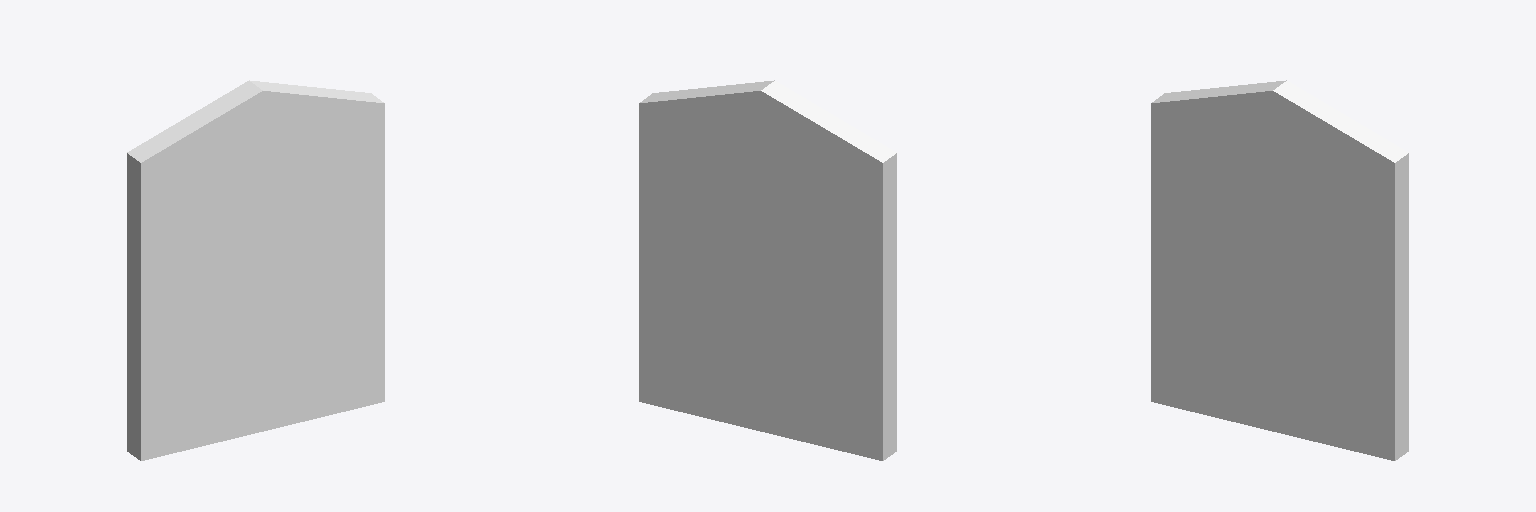
The model's file is ColouredWindowTall.obj.
The picture shows the model from 3 angles: view 1: azimuth 30°, elevation 25°; view 2: azimuth 150°, elevation 25°; view 3: azimuth 330°, elevation 25°; orthographic projection.
Visible parts, largest first — view 1: ColouredWindowTall; view 2: ColouredWindowTall; view 3: ColouredWindowTall.
Part boxes in pixels (left/top/right/bottom): ColouredWindowTall: left=127, top=80, right=384, bottom=460; ColouredWindowTall: left=639, top=80, right=896, bottom=460; ColouredWindowTall: left=1151, top=80, right=1408, bottom=460.
Size of the model in its own units: 6 by 8 by 0.6.